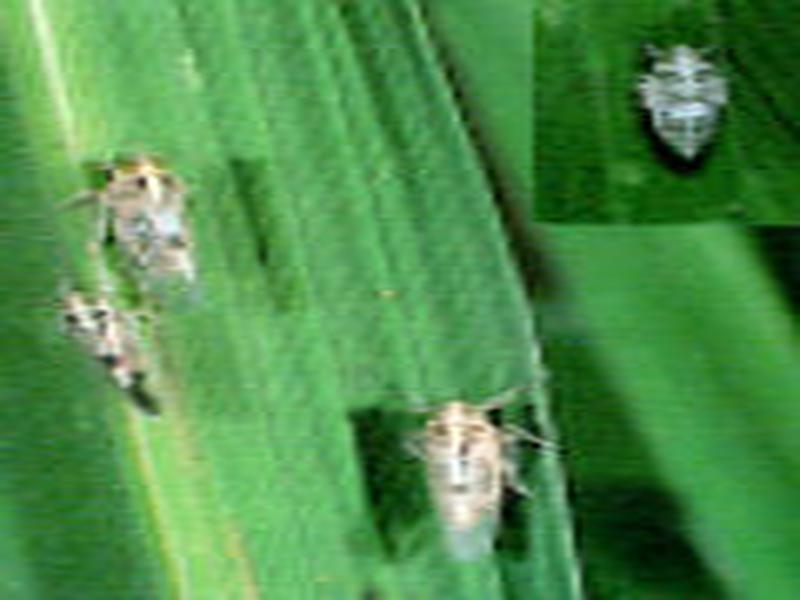White_backed_plant_hopper: (400, 390, 527, 560), (80, 156, 215, 309), (43, 284, 167, 427), (627, 44, 731, 167)
